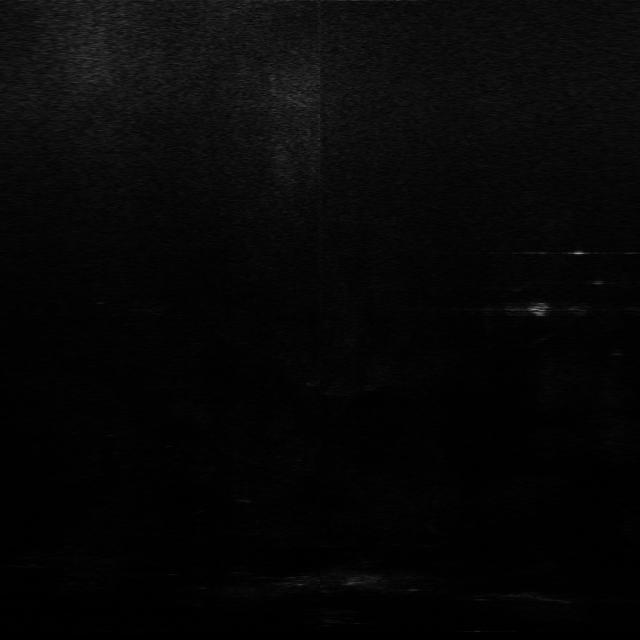rov: (526, 298, 553, 320)
